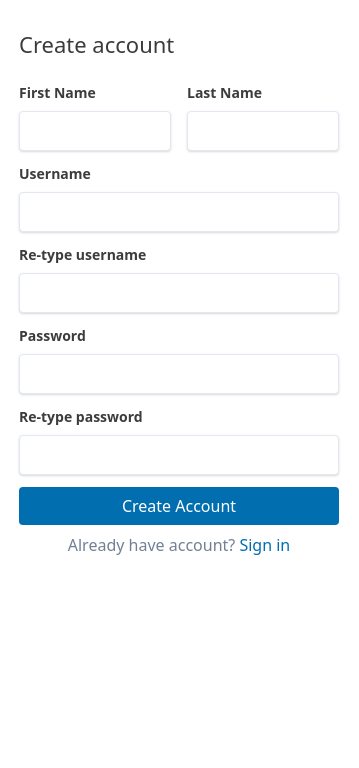
Signup › shows error when submitted without typing any value
Click the button "Create Account" at (179,506), box [19, 487, 339, 525]
(page scrolled)
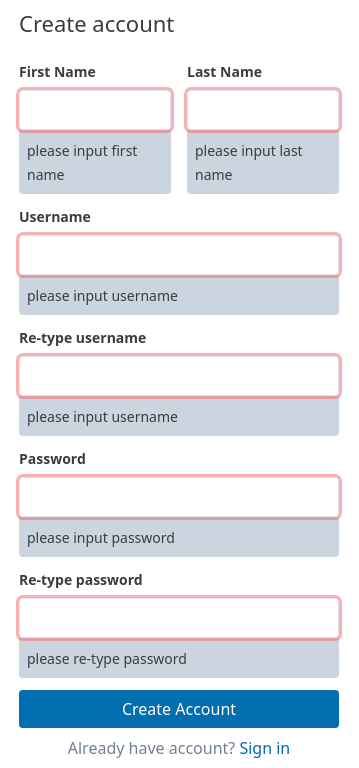
Expected: the element with test id "signup-step" shows "please input first name", [27, 141, 137, 184]
Expected: the element with test id "signup-step" shows "please input last name", [195, 141, 303, 184]
